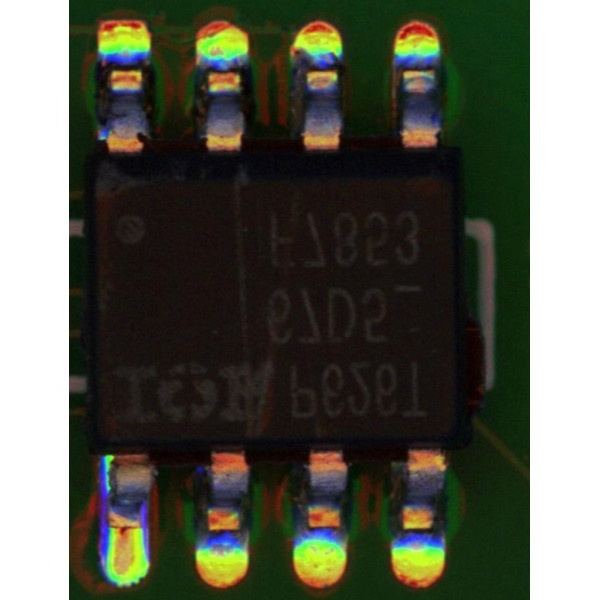Bad_podu: (115, 520, 135, 550)
